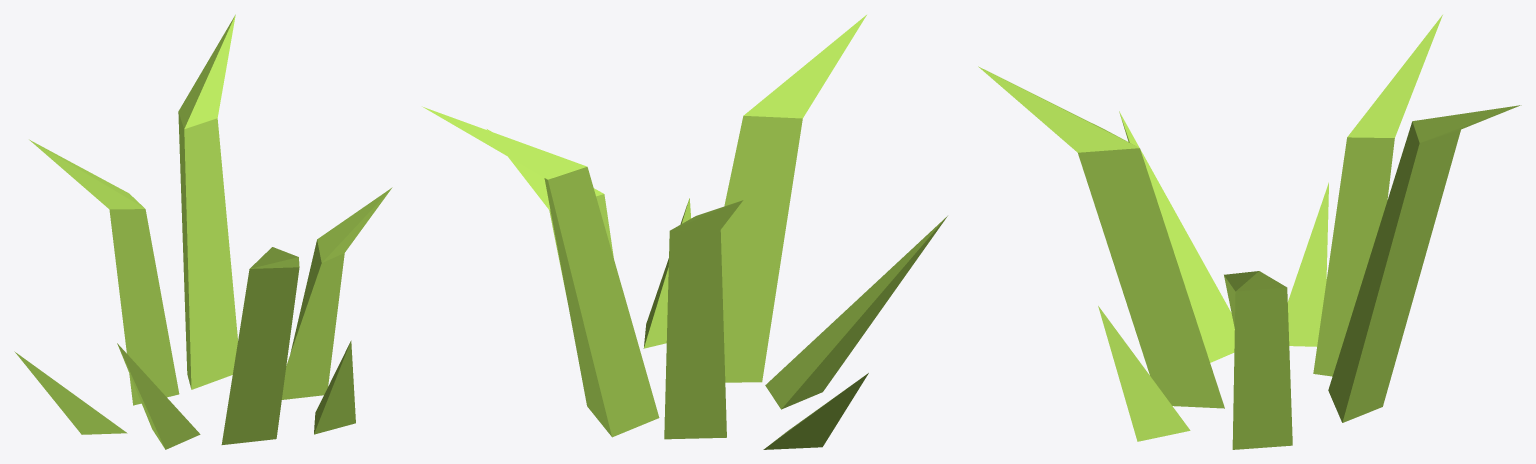
File: Grass3.fbx
The picture shows the model from 3 angles, left to right: view 1: azimuth 30°, elevation 25°; view 2: azimuth 150°, elevation 25°; view 3: azimuth 270°, elevation 25°; orthographic projection. The views are drawn at different scales.
Visible parts, largest first — view 1: Cylinder.001; view 2: Cylinder.001; view 3: Cylinder.001.
Part boxes in pixels (x1,y1,x2,y2): Cylinder.001: (14, 14, 392, 449); Cylinder.001: (422, 15, 947, 449); Cylinder.001: (978, 15, 1521, 449).
Bounding box in the file's own units: 60.92 × 49.22 × 65.95.
